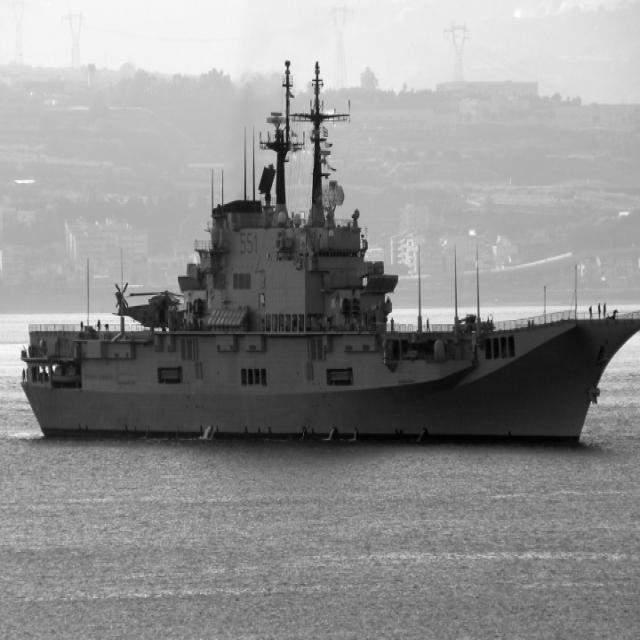Portanaves: (16, 54, 640, 451)
